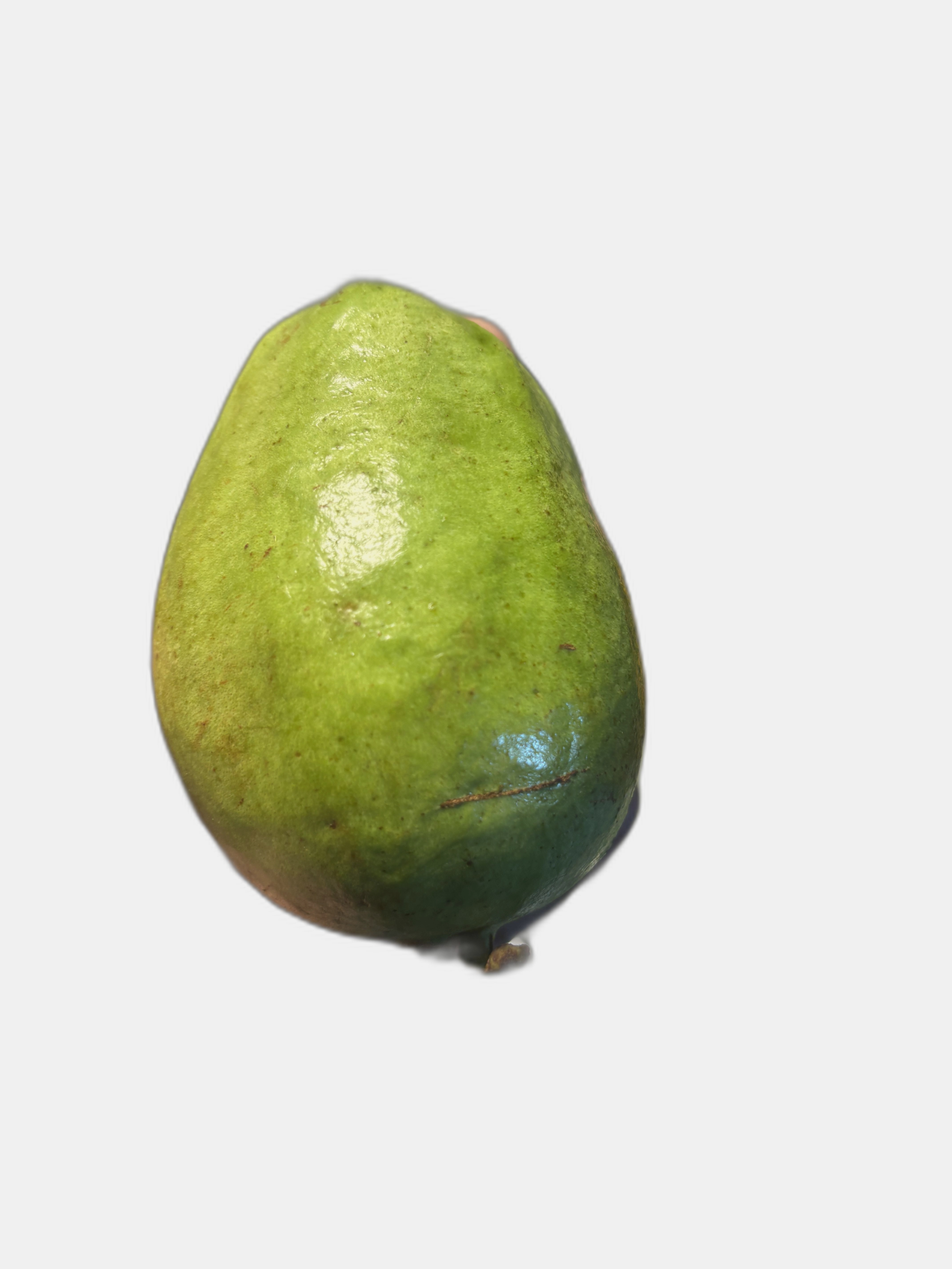guava: (221, 168, 849, 1073)
